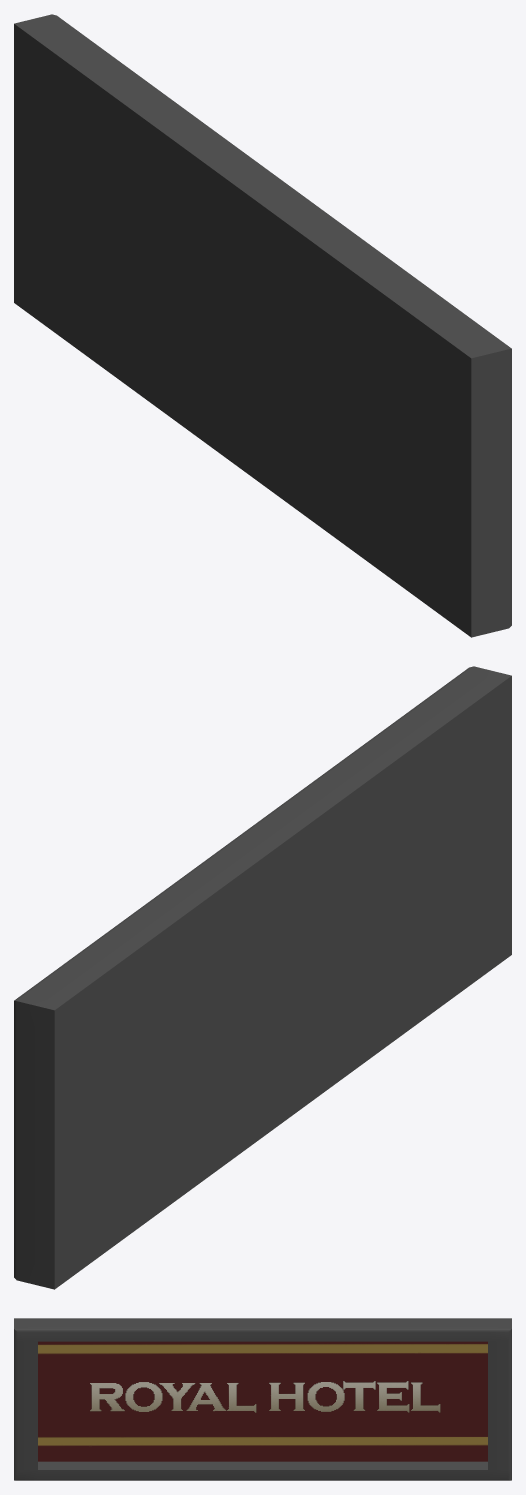
File: BuildingSign_08.fbx
3 views of the same model, one above another, from view 1: azimuth 30°, elevation 25°; view 2: azimuth 150°, elevation 25°; view 3: azimuth 270°, elevation 25° (orthographic). The views are drawn at different scales.
Parts seen in each view (by area): view 1: polySurface973; view 2: polySurface973; view 3: polySurface973.
Boxes of the visible parts, x1=… form: polySurface973: x1=14, y1=14, x2=511, y2=637; polySurface973: x1=14, y1=666, x2=511, y2=1289; polySurface973: x1=14, y1=1318, x2=511, y2=1480.
Bounding box in the file's own units: 0.3507 × 2.16 × 6.42.
